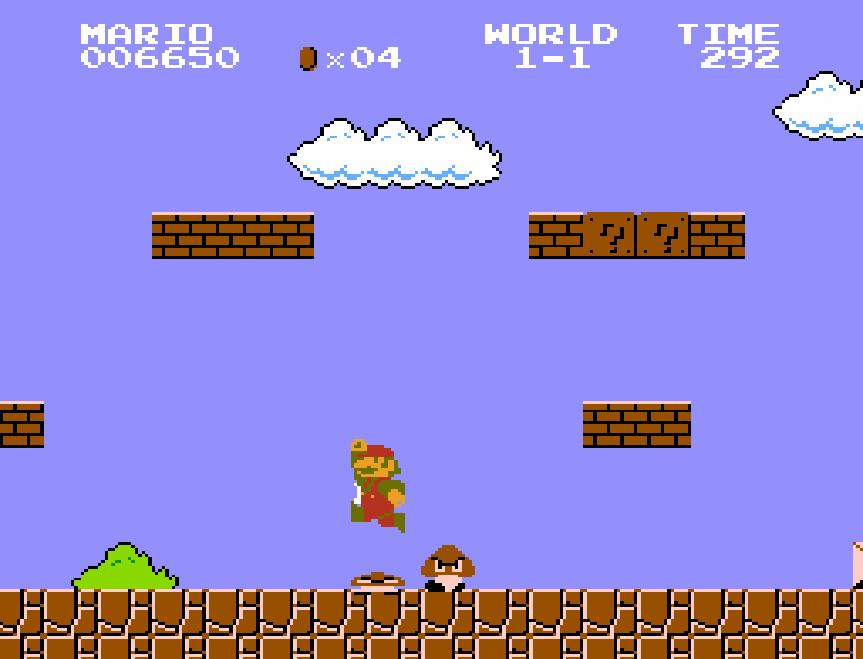big_mario: (348, 437, 406, 535)
